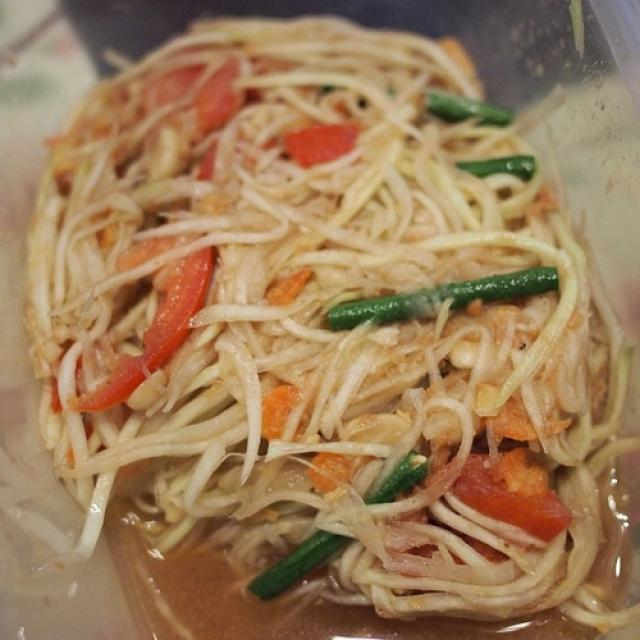蔬菜料理: (29, 32, 630, 616)
